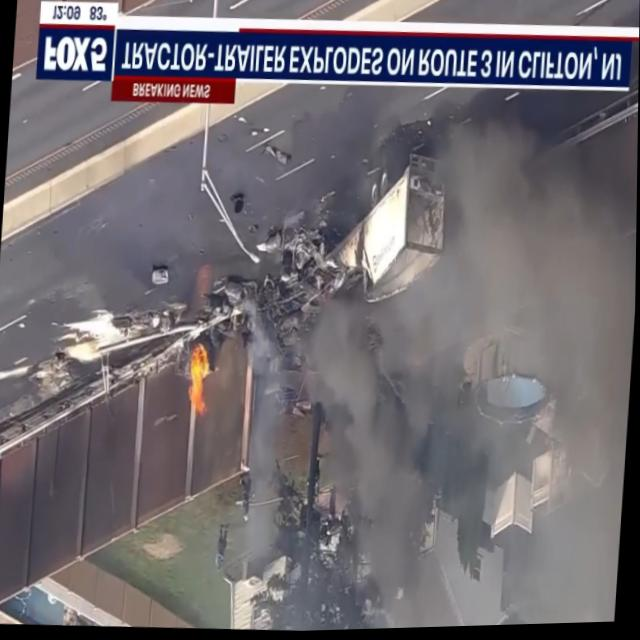Fire: (182, 342, 215, 422)
